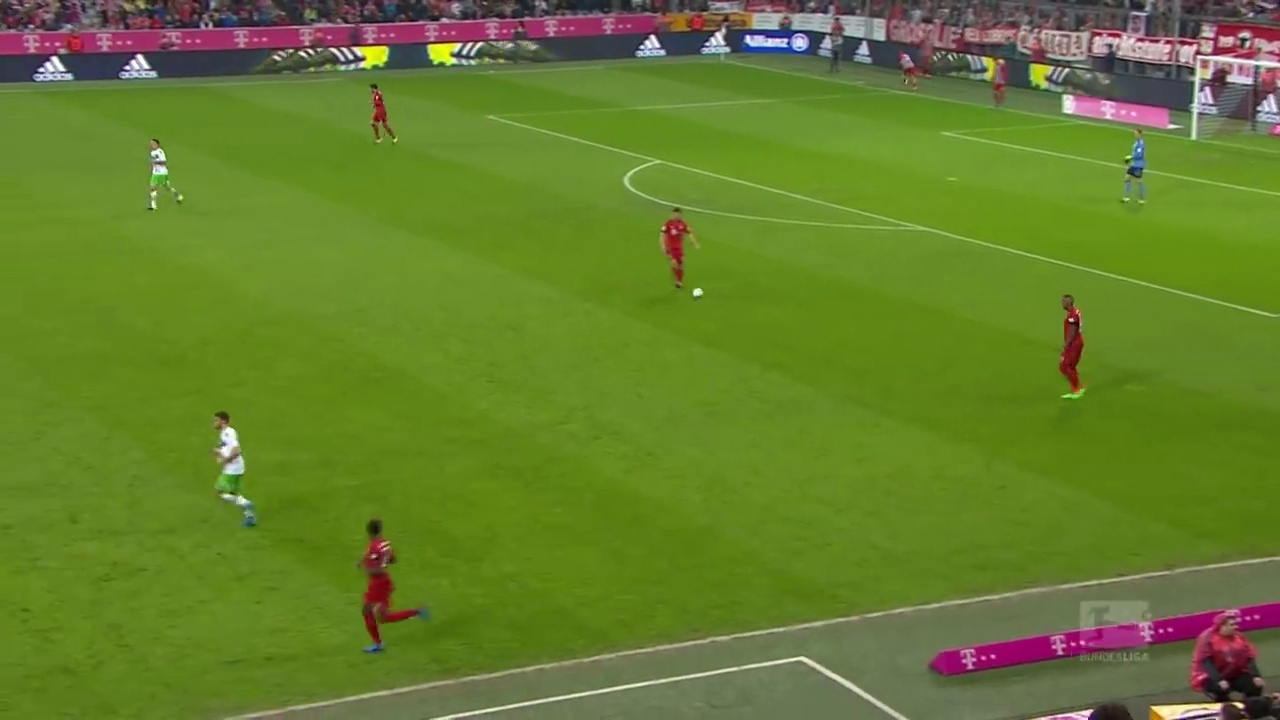ball: (692, 284, 706, 300)
player: (356, 515, 431, 654), (211, 409, 256, 528), (657, 205, 700, 288), (1056, 294, 1089, 401), (145, 136, 184, 213), (366, 81, 397, 143), (1122, 128, 1146, 206)
